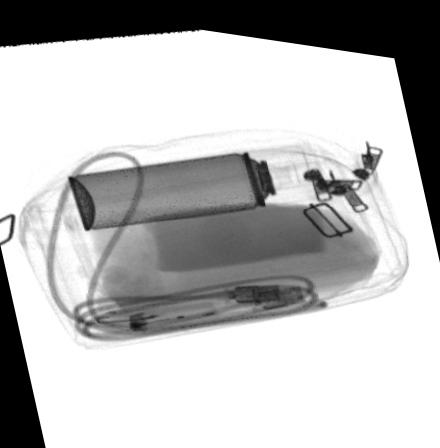Lighter: (124, 289, 217, 329)
Sprayer: (65, 131, 328, 228)
